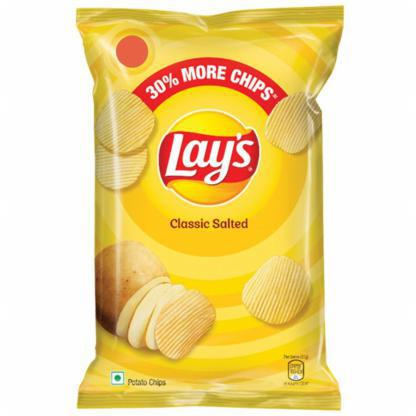classicsalted: (75, 6, 344, 412)
